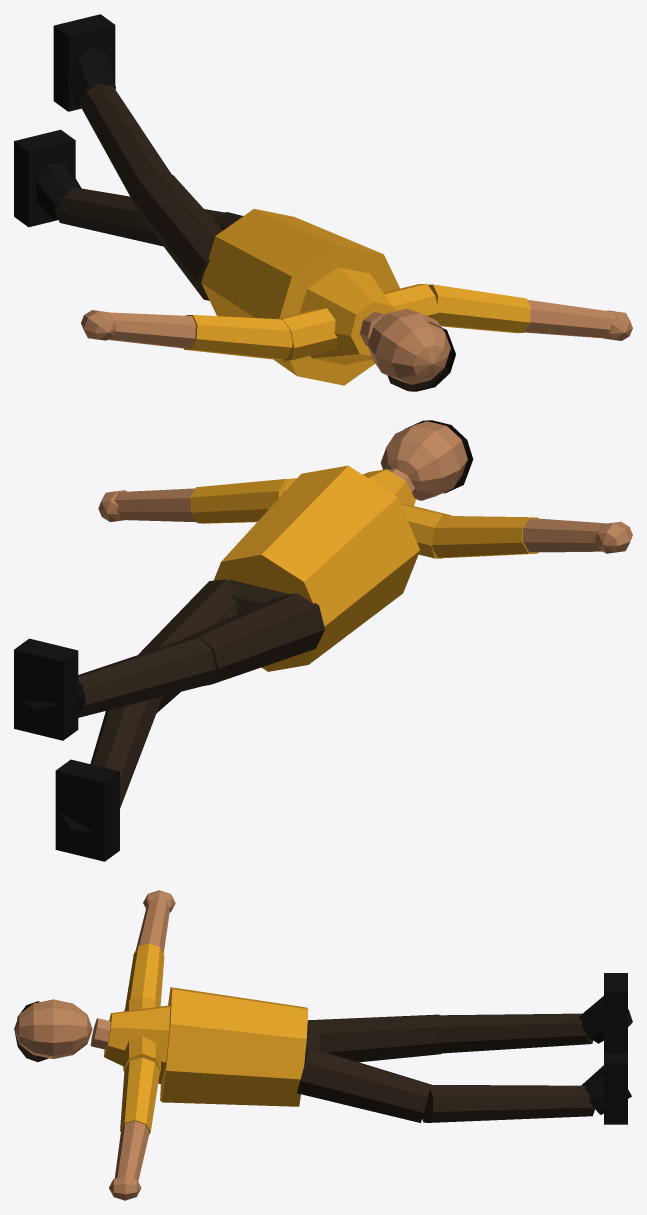
File: dancer_04_spin_out_cm.obj
3 renders of one model, top to bottom at view 1: azimuth 30°, elevation 25°; view 2: azimuth 150°, elevation 25°; view 3: azimuth 270°, elevation 25°, orthographic. The views are drawn at different scales.
Visible parts, largest first — view 1: dancer_04_spin_out; view 2: dancer_04_spin_out; view 3: dancer_04_spin_out.
Boxes of the visible parts, x1,y1,x2,y2 form: dancer_04_spin_out: [14, 14, 632, 391]; dancer_04_spin_out: [14, 420, 632, 861]; dancer_04_spin_out: [14, 890, 632, 1200].
Size of the model in its own units: 146 by 48 by 181.
